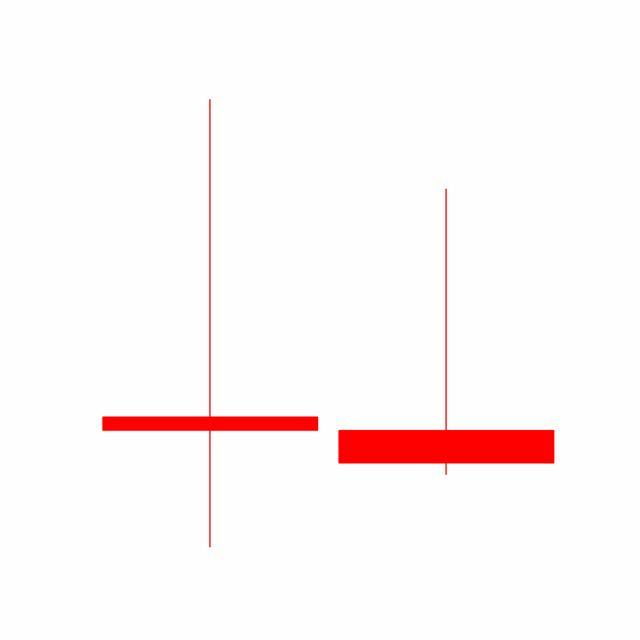Gravestone Doji: (328, 187, 566, 480)
